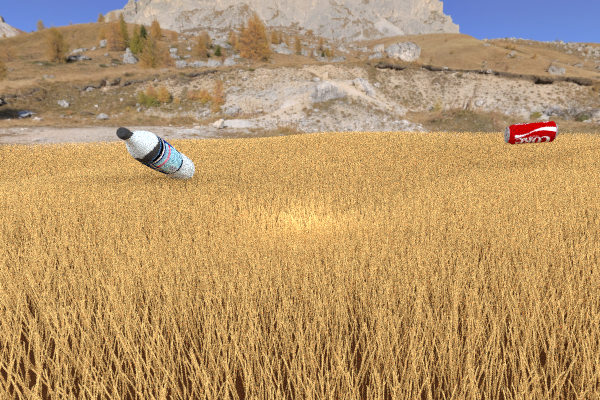bottle: (116, 127, 195, 181)
can: (504, 120, 557, 144), (270, 123, 310, 153)
